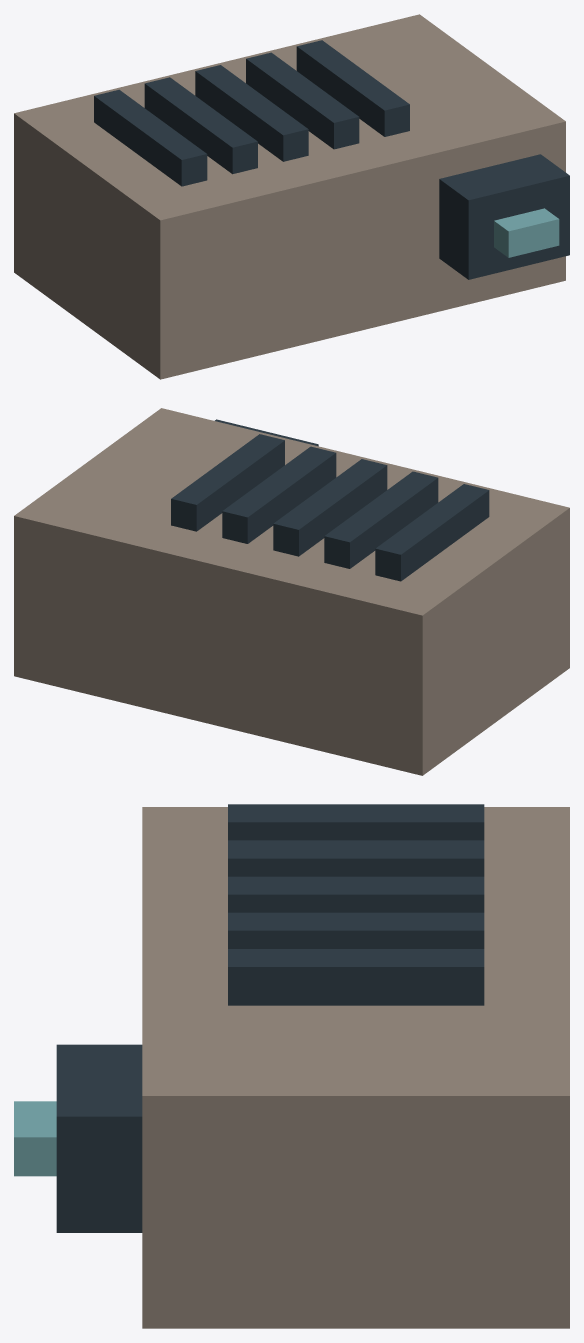
The model's file is photography-09.glb.
The picture shows the model from 3 angles, top to bottom: view 1: azimuth 30°, elevation 25°; view 2: azimuth 150°, elevation 25°; view 3: azimuth 270°, elevation 25°; orthographic projection. The views are drawn at different scales.
Visible parts, largest first — view 1: Print enlarger; view 2: Print enlarger; view 3: Print enlarger.
Part boxes in pixels (x1=…): Print enlarger: x1=14, y1=14, x2=569, y2=379; Print enlarger: x1=14, y1=408, x2=569, y2=775; Print enlarger: x1=14, y1=804, x2=569, y2=1328.
Bounding box in the file's own units: 1.28 × 0.56 × 1.04.
